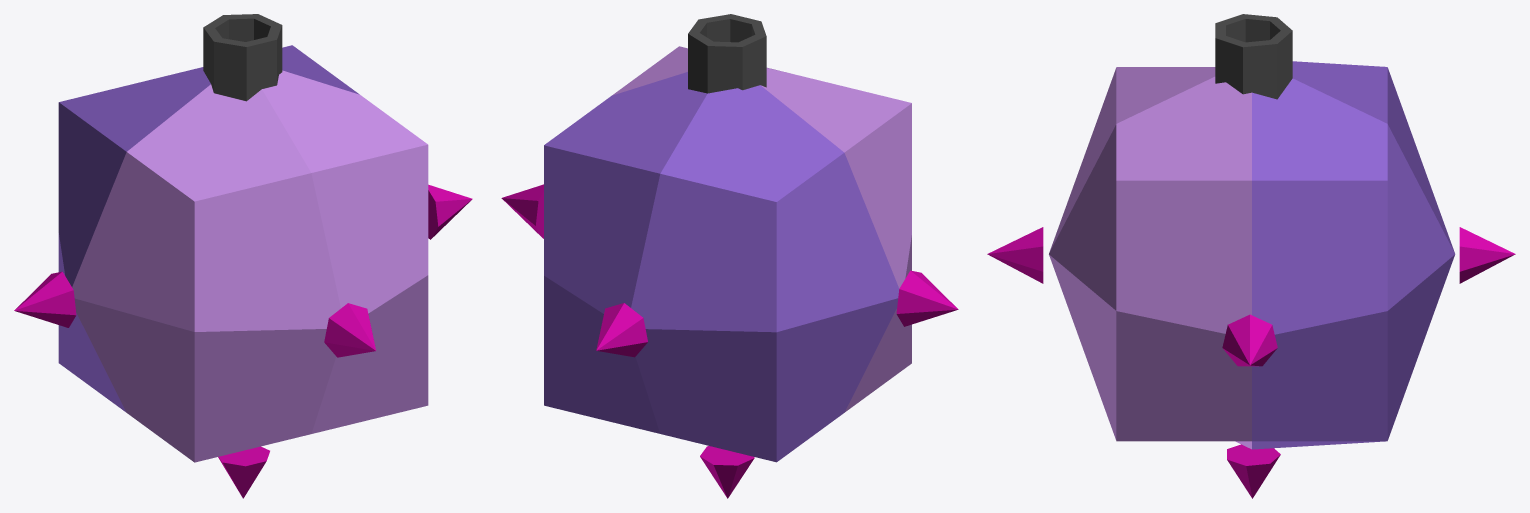
The model's file is guard.fbx.
3 renders of one model, left to right at view 1: azimuth 30°, elevation 25°; view 2: azimuth 150°, elevation 25°; view 3: azimuth 270°, elevation 25°, orthographic.
Visible parts, largest first — view 1: Cube; view 2: Cube; view 3: Cube.
Boxes of the visible parts, x1,y1,x2,y2 form: Cube: [14, 14, 472, 498]; Cube: [501, 14, 958, 498]; Cube: [987, 14, 1515, 498].
Size of the model in its own units: 100 by 97.7 by 100.
